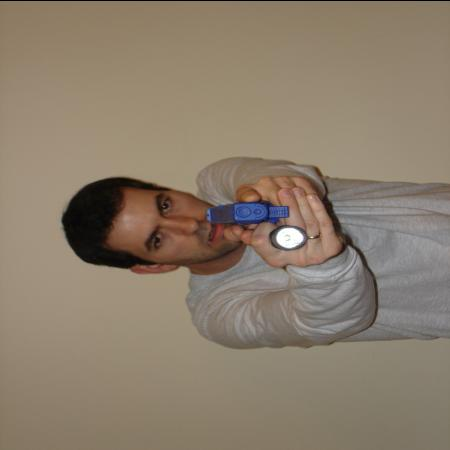Pistol: (202, 198, 290, 225)
